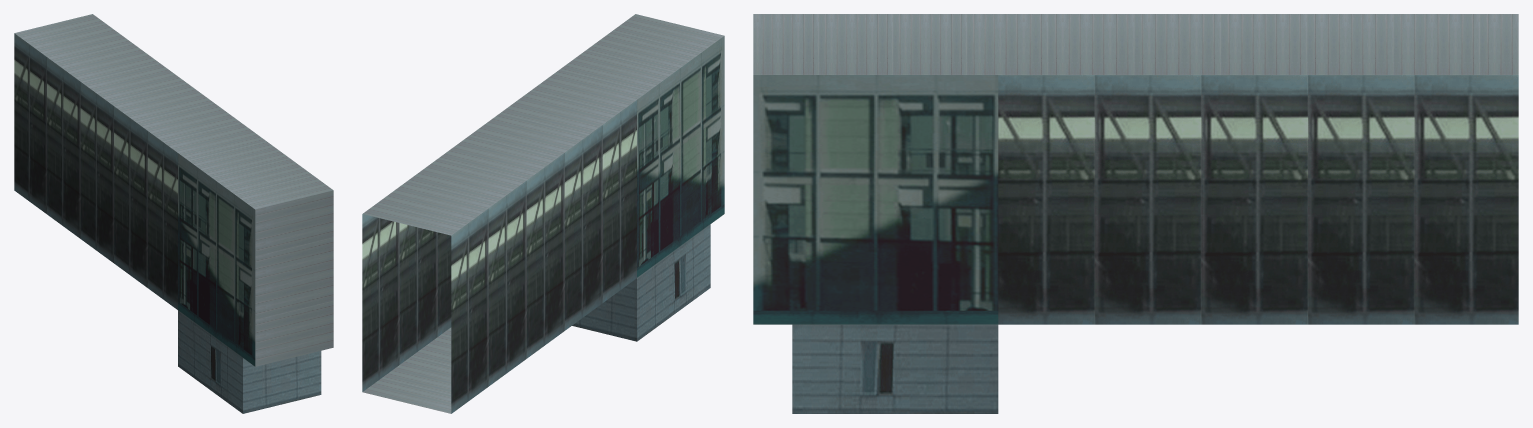
The model's file is bridge1.obj.
3 renders of one model, left to right at view 1: azimuth 30°, elevation 25°; view 2: azimuth 150°, elevation 25°; view 3: azimuth 270°, elevation 25°, orthographic. The views are drawn at different scales.
Visible parts, largest first — view 1: polySurface659; view 2: polySurface659; view 3: polySurface659.
Boxes of the visible parts, <box> form: polySurface659: <box>14,14,333,413</box>; polySurface659: <box>362,14,724,413</box>; polySurface659: <box>753,14,1518,413</box>.
Size of the model in its own units: 6.95 by 18.06 by 36.95.
